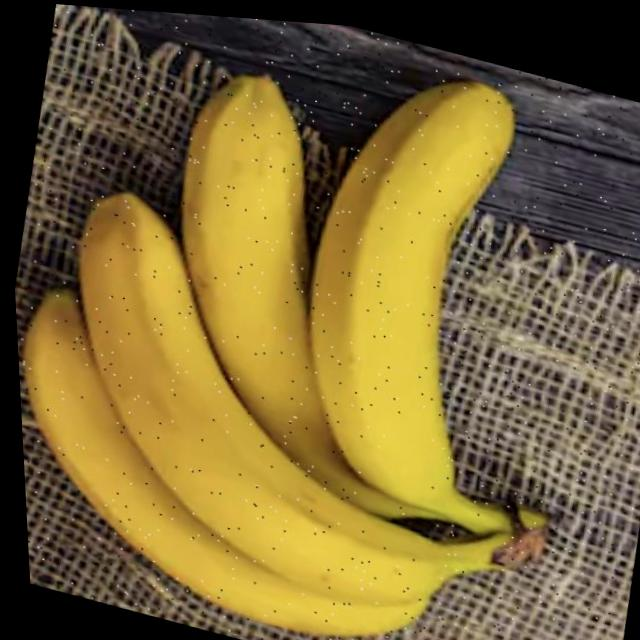Banana: (0, 0, 633, 640)
